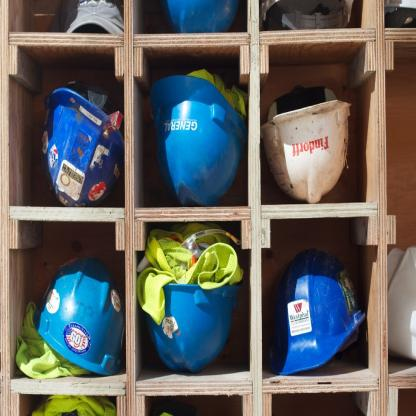Helmet: (261, 248, 366, 378), (156, 64, 246, 205), (257, 90, 354, 204), (33, 254, 121, 378), (37, 88, 122, 211), (147, 282, 236, 374), (259, 0, 353, 30), (165, 0, 239, 34)
